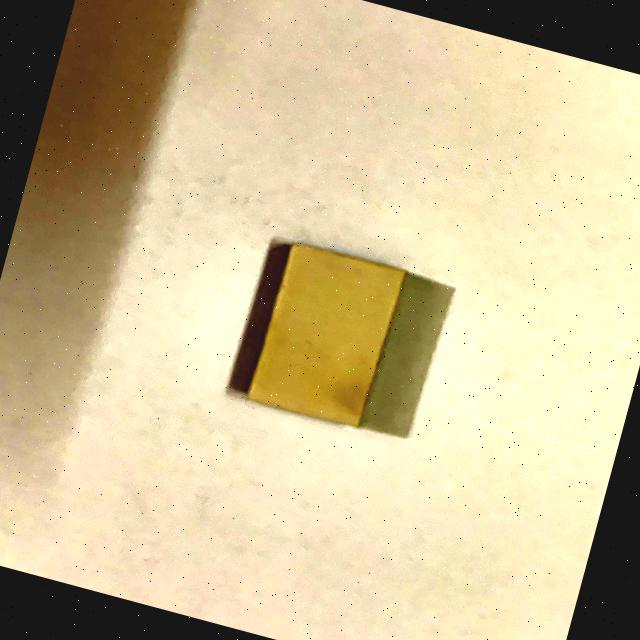Eraser: (190, 208, 450, 473)
